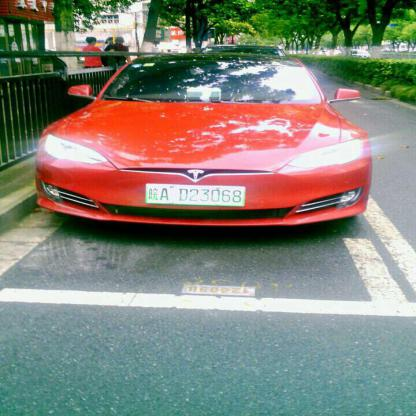lp: (144, 182, 245, 204)
